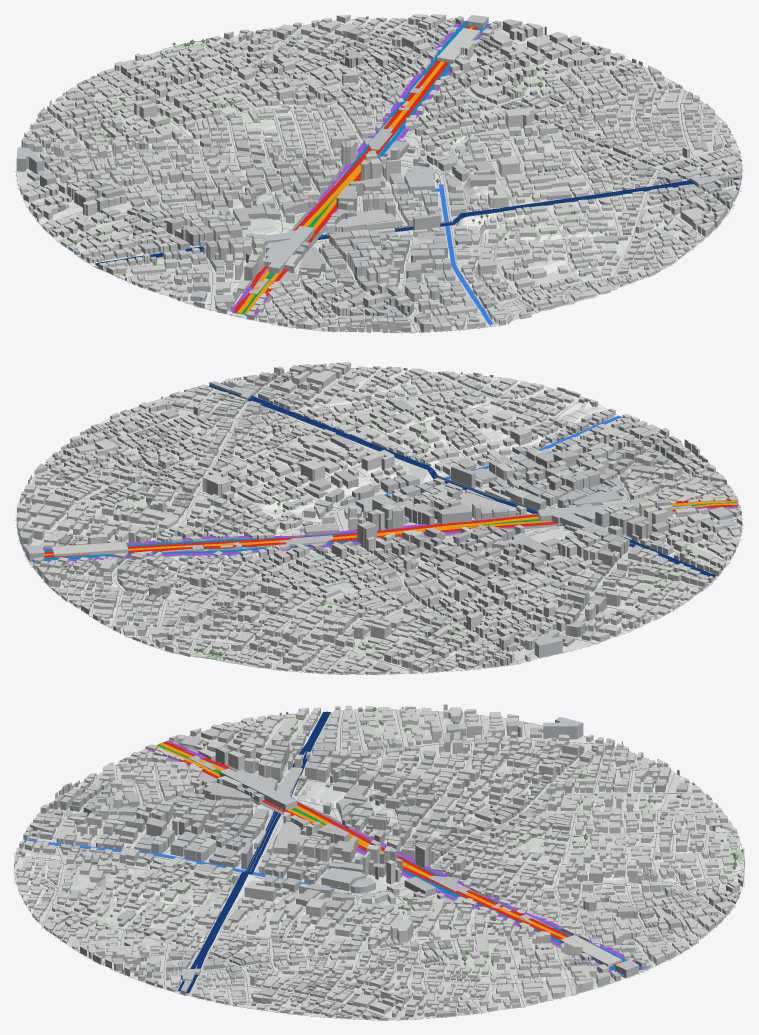
The model's file is Shimokita-Senrogai-city-model.glb.
3 renders of one model, top to bottom at view 1: azimuth 30°, elevation 25°; view 2: azimuth 150°, elevation 25°; view 3: azimuth 270°, elevation 25°, orthographic.
Parts seen in each view (by area): view 1: BUILDINGS_RESIDENTIAL, BUILDINGS_RESIDENTIAL_part2, BUILDINGS_COMMERCIAL, TERRAIN, TERRAIN_part2, BUILDINGS_OTHER, BUILDINGS_PUBLIC, BUILDINGS_UTILITY, BUILDINGS_MIXED, A_TRANSIT_DF2413, A_TRANSIT_083476, A_TRANSIT_F29600 (+13 smaller); view 2: BUILDINGS_RESIDENTIAL, BUILDINGS_RESIDENTIAL_part2, BUILDINGS_COMMERCIAL, TERRAIN, TERRAIN_part2, BUILDINGS_OTHER, BUILDINGS_PUBLIC, BUILDINGS_UTILITY, BUILDINGS_MIXED, A_TRANSIT_DF2413, A_TRANSIT_083476, A_TRANSIT_F29600 (+11 smaller); view 3: BUILDINGS_RESIDENTIAL, BUILDINGS_COMMERCIAL, BUILDINGS_RESIDENTIAL_part2, TERRAIN_part2, TERRAIN, BUILDINGS_OTHER, BUILDINGS_PUBLIC, BUILDINGS_UTILITY, BUILDINGS_MIXED, A_TRANSIT_083476, A_TRANSIT_DF2413, A_TRANSIT_9B51E0 (+13 smaller).
Boxes of the visible parts, x1,y1,x2,y2 form: BUILDINGS_RESIDENTIAL: (42, 14, 741, 332); BUILDINGS_RESIDENTIAL_part2: (20, 18, 722, 323); BUILDINGS_COMMERCIAL: (21, 21, 741, 332); TERRAIN: (67, 99, 744, 333); TERRAIN_part2: (14, 19, 693, 244); BUILDINGS_OTHER: (36, 18, 742, 328); BUILDINGS_PUBLIC: (16, 15, 739, 325); BUILDINGS_UTILITY: (44, 27, 740, 329); BUILDINGS_MIXED: (95, 29, 479, 331); A_TRANSIT_DF2413: (232, 26, 477, 312); A_TRANSIT_083476: (95, 178, 739, 265); A_TRANSIT_F29600: (237, 27, 473, 314); BUILDINGS_RESIDENTIAL: (16, 362, 742, 641); BUILDINGS_RESIDENTIAL_part2: (39, 389, 707, 674); BUILDINGS_COMMERCIAL: (22, 365, 718, 672); TERRAIN: (69, 367, 744, 595); TERRAIN_part2: (14, 447, 687, 675); BUILDINGS_OTHER: (18, 366, 726, 671); BUILDINGS_PUBLIC: (19, 372, 735, 657); BUILDINGS_UTILITY: (52, 366, 741, 674); BUILDINGS_MIXED: (138, 417, 738, 653); A_TRANSIT_DF2413: (44, 499, 738, 557); A_TRANSIT_083476: (209, 383, 716, 577); A_TRANSIT_F29600: (44, 500, 737, 555); BUILDINGS_RESIDENTIAL: (14, 705, 737, 1019); BUILDINGS_COMMERCIAL: (47, 721, 688, 1017); BUILDINGS_RESIDENTIAL_part2: (24, 704, 744, 1018); TERRAIN_part2: (375, 708, 730, 1020); TERRAIN: (14, 709, 379, 1020); BUILDINGS_OTHER: (28, 713, 740, 1020); BUILDINGS_PUBLIC: (19, 717, 729, 988); BUILDINGS_UTILITY: (19, 707, 738, 1019); BUILDINGS_MIXED: (32, 727, 720, 906); A_TRANSIT_083476: (178, 711, 330, 993); A_TRANSIT_DF2413: (154, 741, 622, 965); A_TRANSIT_9B51E0: (147, 740, 645, 975).
Size of the model in its own units: 901 by 34.43 by 901.
